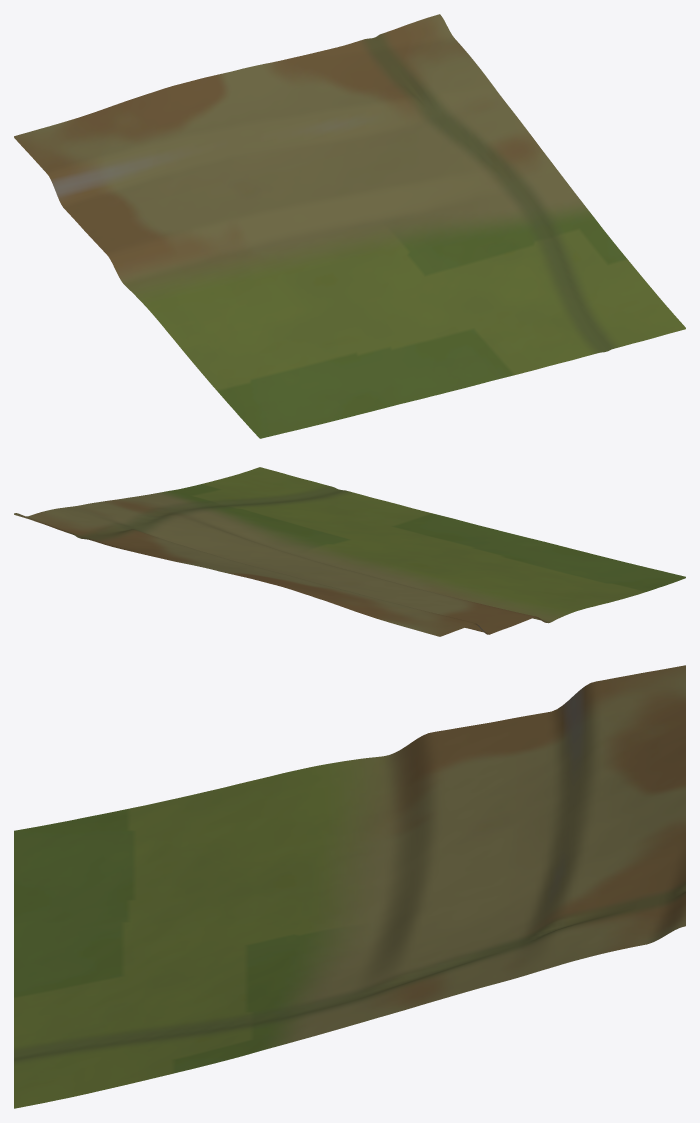
Rendered from land_n_02_00.glb.
3 renders of one model, top to bottom at view 1: azimuth 30°, elevation 25°; view 2: azimuth 150°, elevation 25°; view 3: azimuth 270°, elevation 25°, orthographic. The views are drawn at different scales.
Visible parts, largest first — view 1: land_n_02_00; view 2: land_n_02_00; view 3: land_n_02_00.
Part boxes in pixels (x1,y1,x2,y2): land_n_02_00: (14, 14, 685, 438); land_n_02_00: (14, 467, 685, 636); land_n_02_00: (14, 665, 685, 1108).
Bounding box in the file's own units: 480 × 152 × 480.
